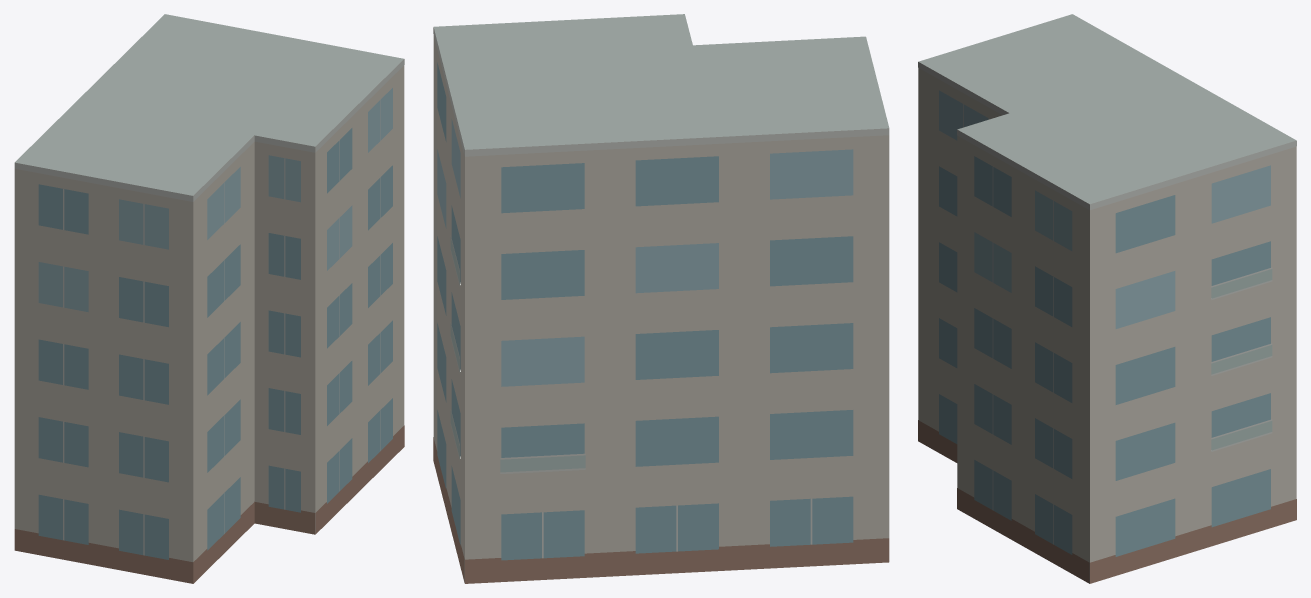
Rendered from survey-upis-32677461.glb.
3 views of the same model, side by side, from view 1: azimuth 30°, elevation 25°; view 2: azimuth 150°, elevation 25°; view 3: azimuth 270°, elevation 25° (orthographic). The views are drawn at different scales.
Visible parts, largest first — view 1: survey-upis-32677461.tmp; view 2: survey-upis-32677461.tmp; view 3: survey-upis-32677461.tmp.
Boxes of the visible parts, x1,y1,x2,y2 form: survey-upis-32677461.tmp: [14, 14, 404, 583]; survey-upis-32677461.tmp: [433, 14, 889, 583]; survey-upis-32677461.tmp: [918, 14, 1296, 583].
Size of the model in its own units: 16.68 by 15.5 by 14.02.
